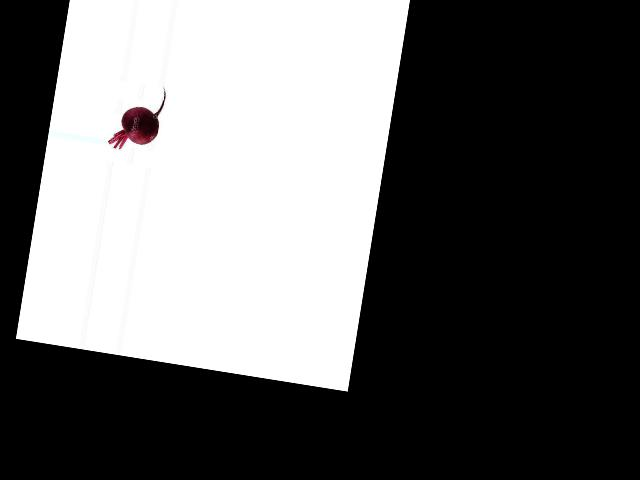beet: (107, 79, 166, 155)
